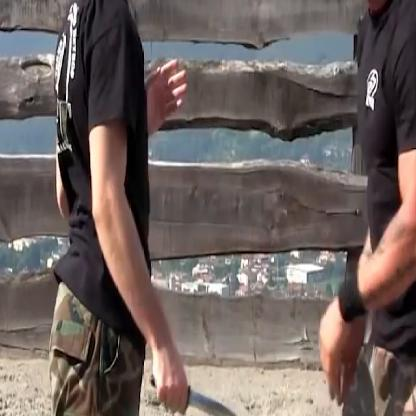knife: (146, 356, 250, 415)
